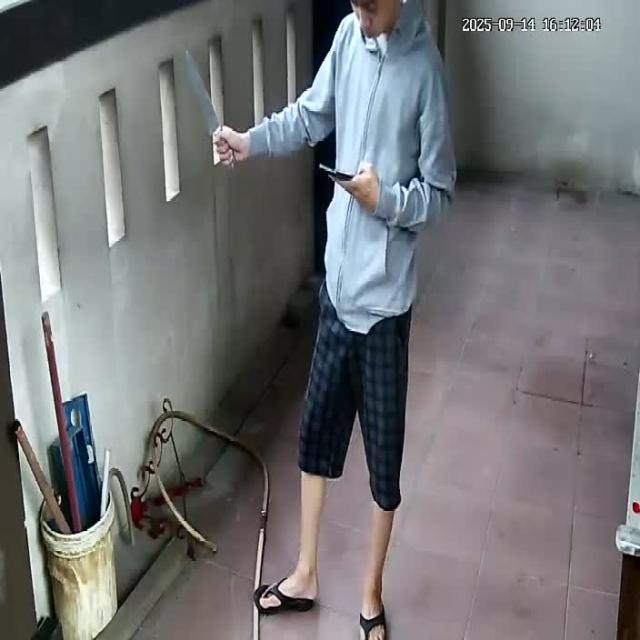senjata_tajam: (183, 45, 220, 133)
